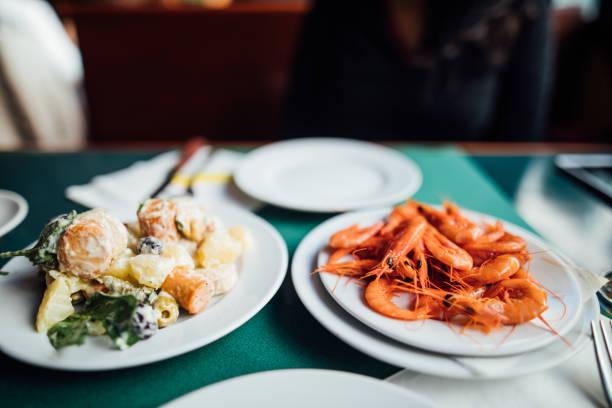Braised Crucian Carp: (279, 191, 594, 387), (0, 195, 286, 373)
